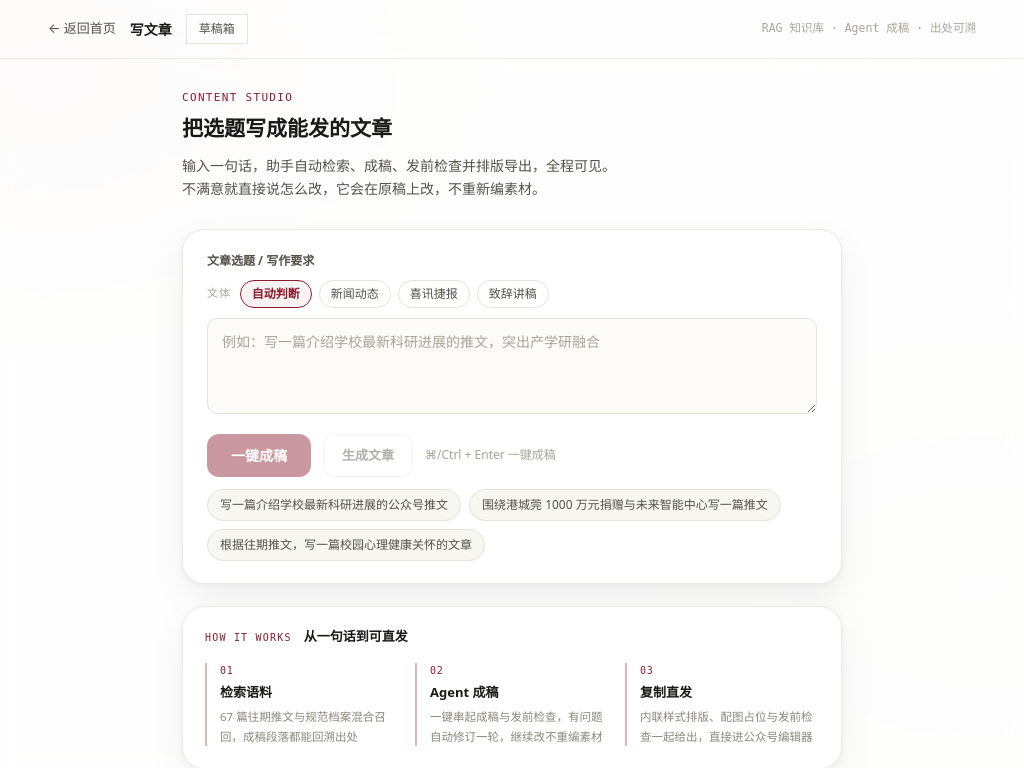
it: 写文章页 › 提交选题后展开右栏，草稿栏固定在最上方、文章单独滚动
The image size is (1024, 768).
In the text box named "文章选题输入框": coordinates (512, 366) x1=207 y1=318 x2=817 y2=414, type "写一篇科研进展推文"
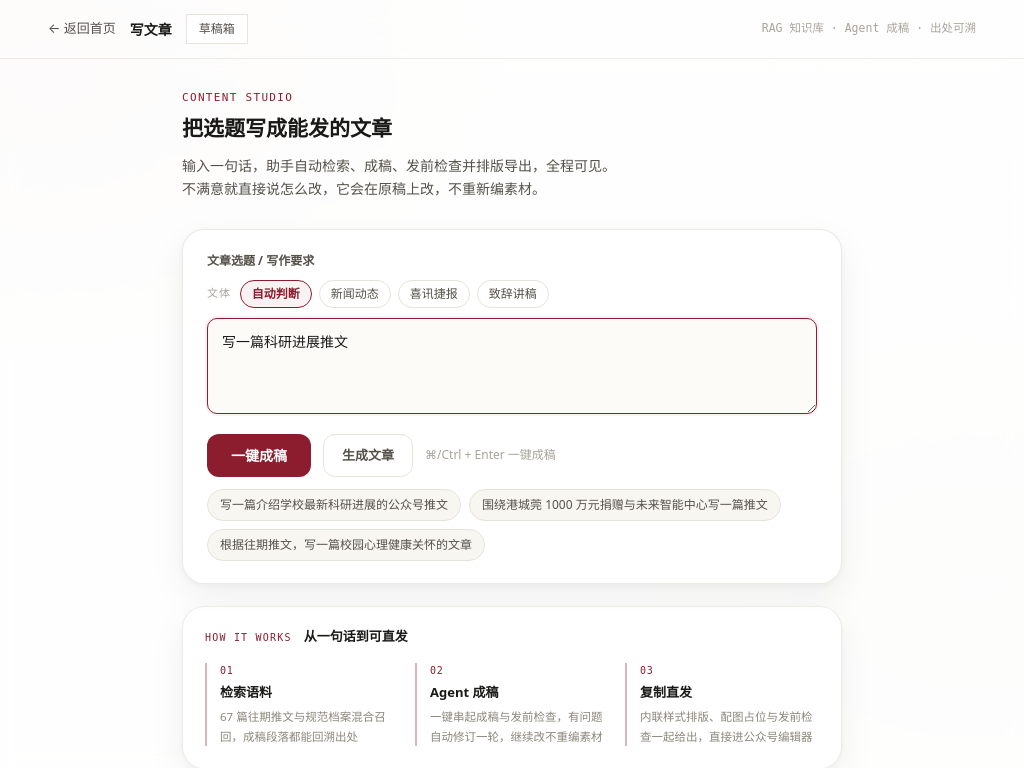
Click the button "生成文章": coordinates (368, 455) x1=323 y1=434 x2=413 y2=477
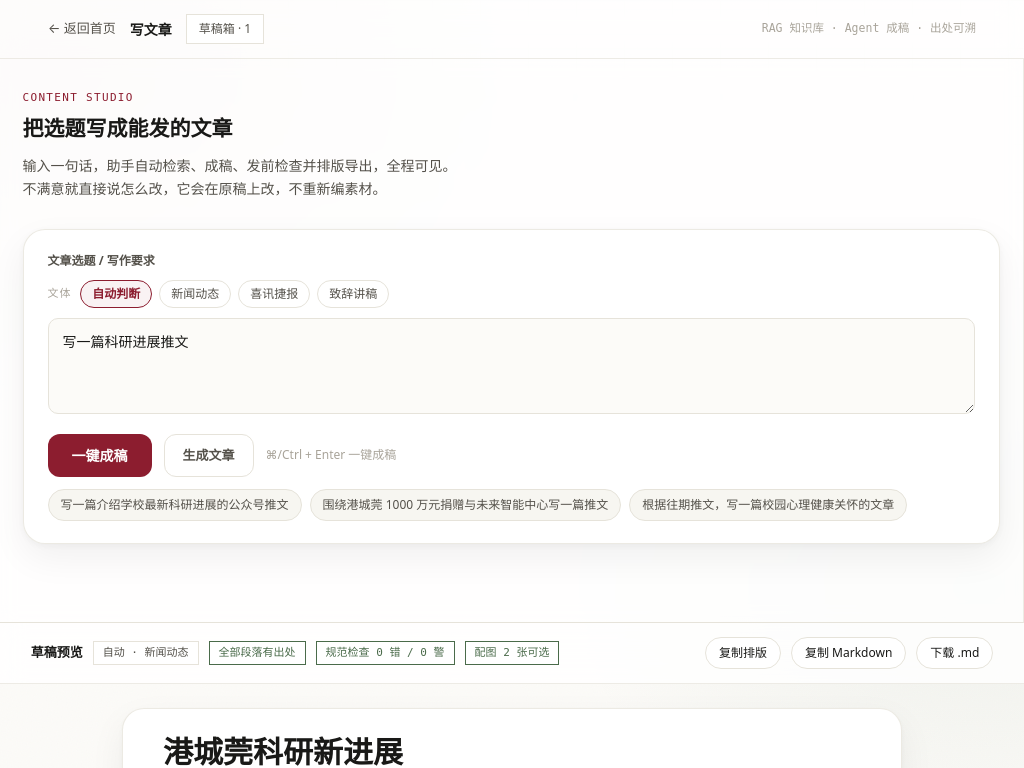
Expected: the heading "港城莞科研新进展" is shown, x1=163 y1=736 x2=403 y2=767
